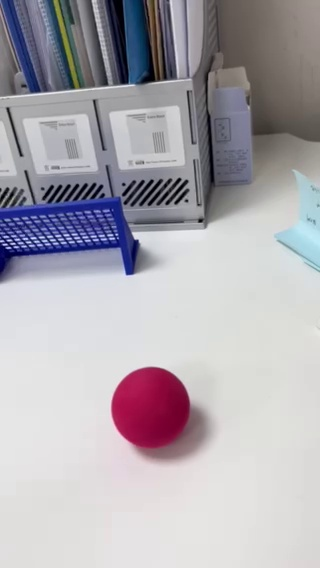goal: (1, 203, 138, 282)
redball: (110, 366, 190, 449)
